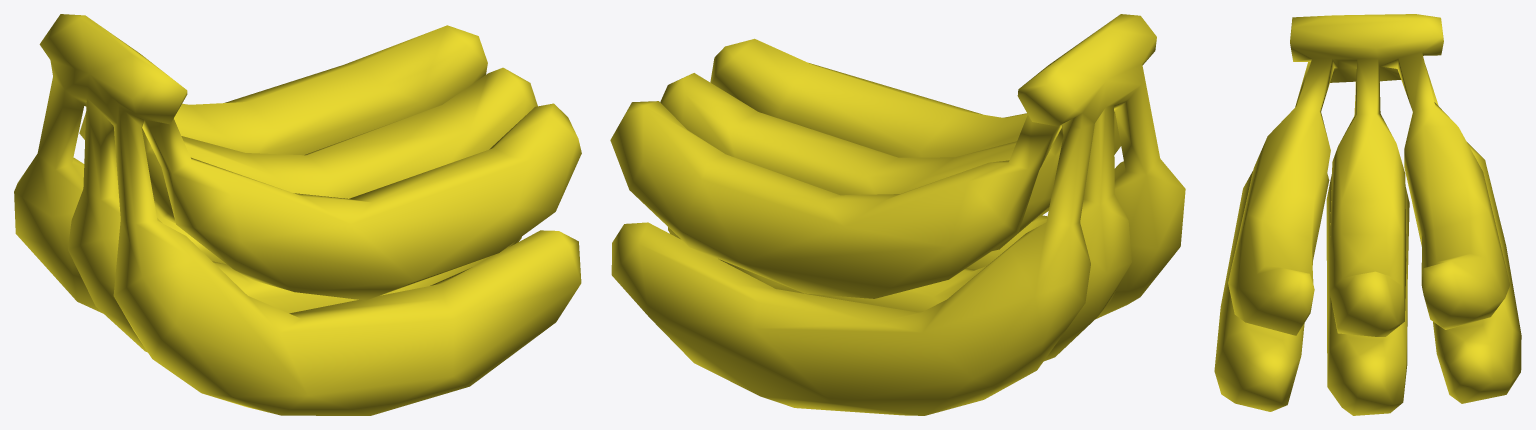
File: banana.glb
3 views of the same model, side by side, from view 1: azimuth 30°, elevation 25°; view 2: azimuth 150°, elevation 25°; view 3: azimuth 270°, elevation 25° (orthographic). The views are drawn at different scales.
Visible parts, largest first — view 1: Banana; view 2: Banana; view 3: Banana.
Boxes of the visible parts, x1,y1,x2,y2 form: Banana: (14, 14, 581, 415); Banana: (610, 14, 1185, 415); Banana: (1214, 14, 1521, 415).
Bounding box in the file's own units: 0.1782 × 0.1364 × 0.1291.
